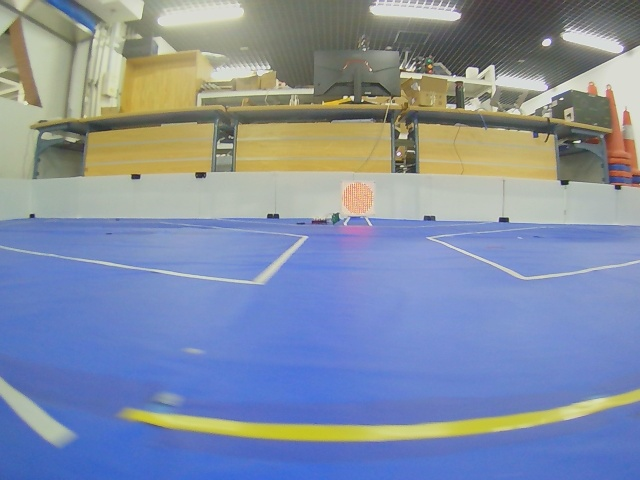red: (342, 181, 375, 216)
